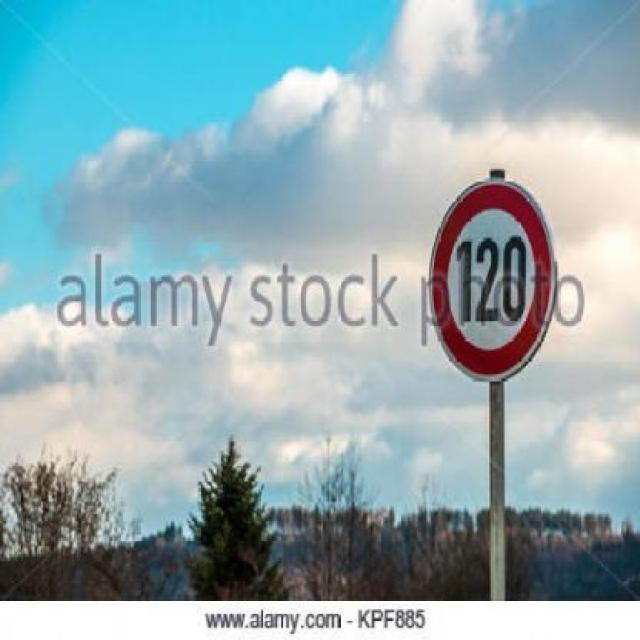forb_speed_over_120: (433, 181, 553, 382)
